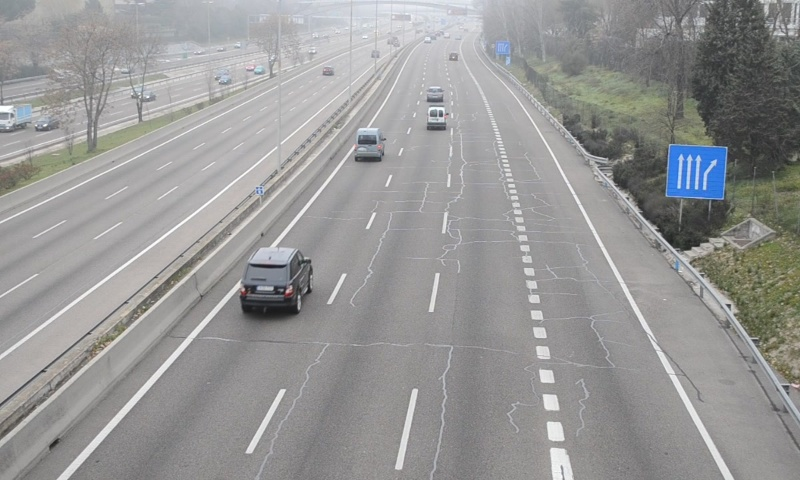car: (240, 246, 314, 311)
van: (354, 126, 383, 158), (426, 105, 446, 128)
